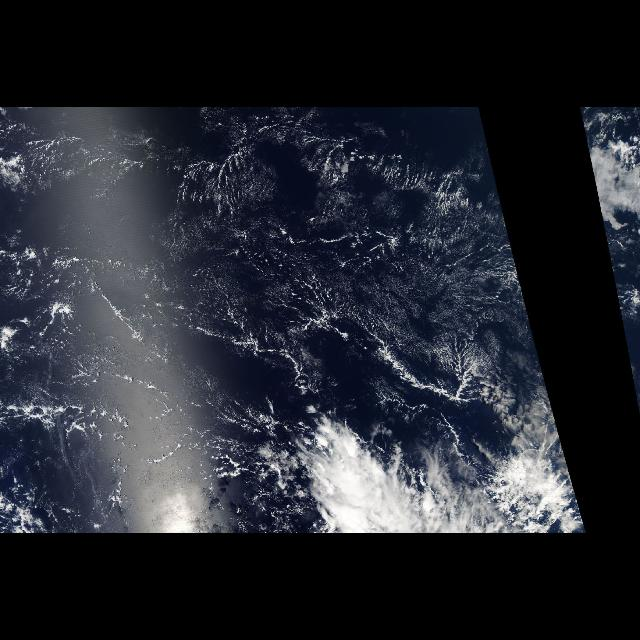Sugar: (172, 135, 544, 373)
